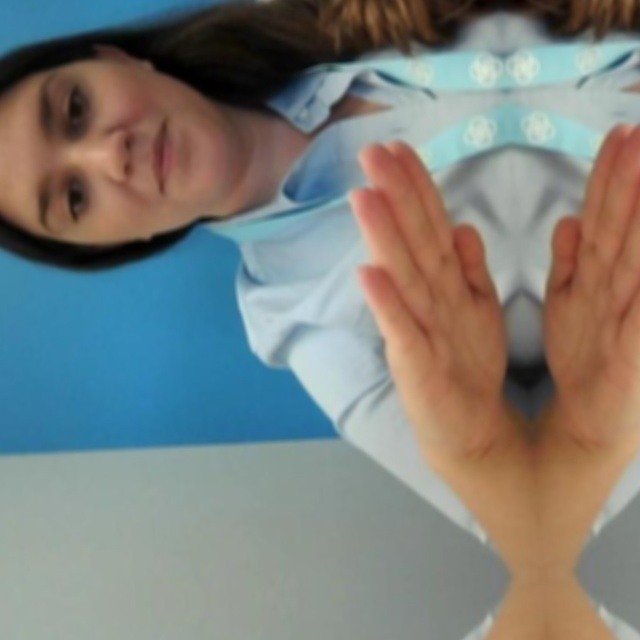Paper: (333, 115, 531, 424)
